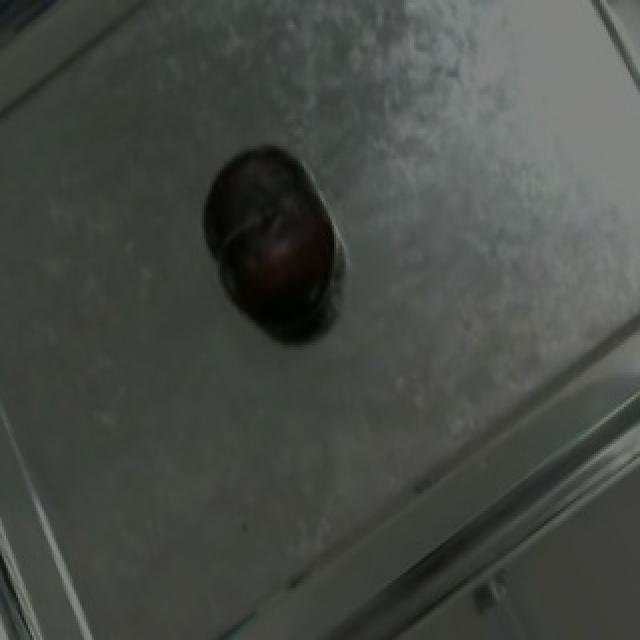Fruit: (186, 126, 354, 342)
